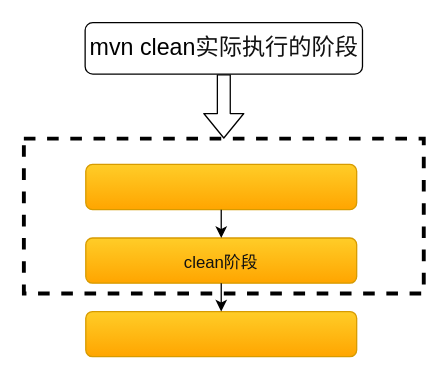
Some shapes in this 448 by 379 pixel diagram are drawn without their labels. Here are the shapes that lost their labels. From the top down, the box of each, then its label:
(84, 163, 357, 210): pre-clean阶段
(84, 310, 357, 357): post-clean阶段
